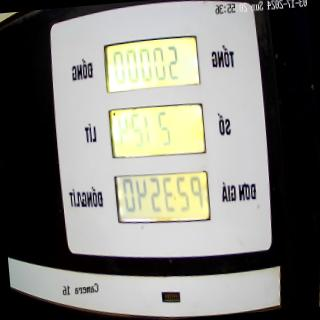screen: (100, 29, 214, 233)
